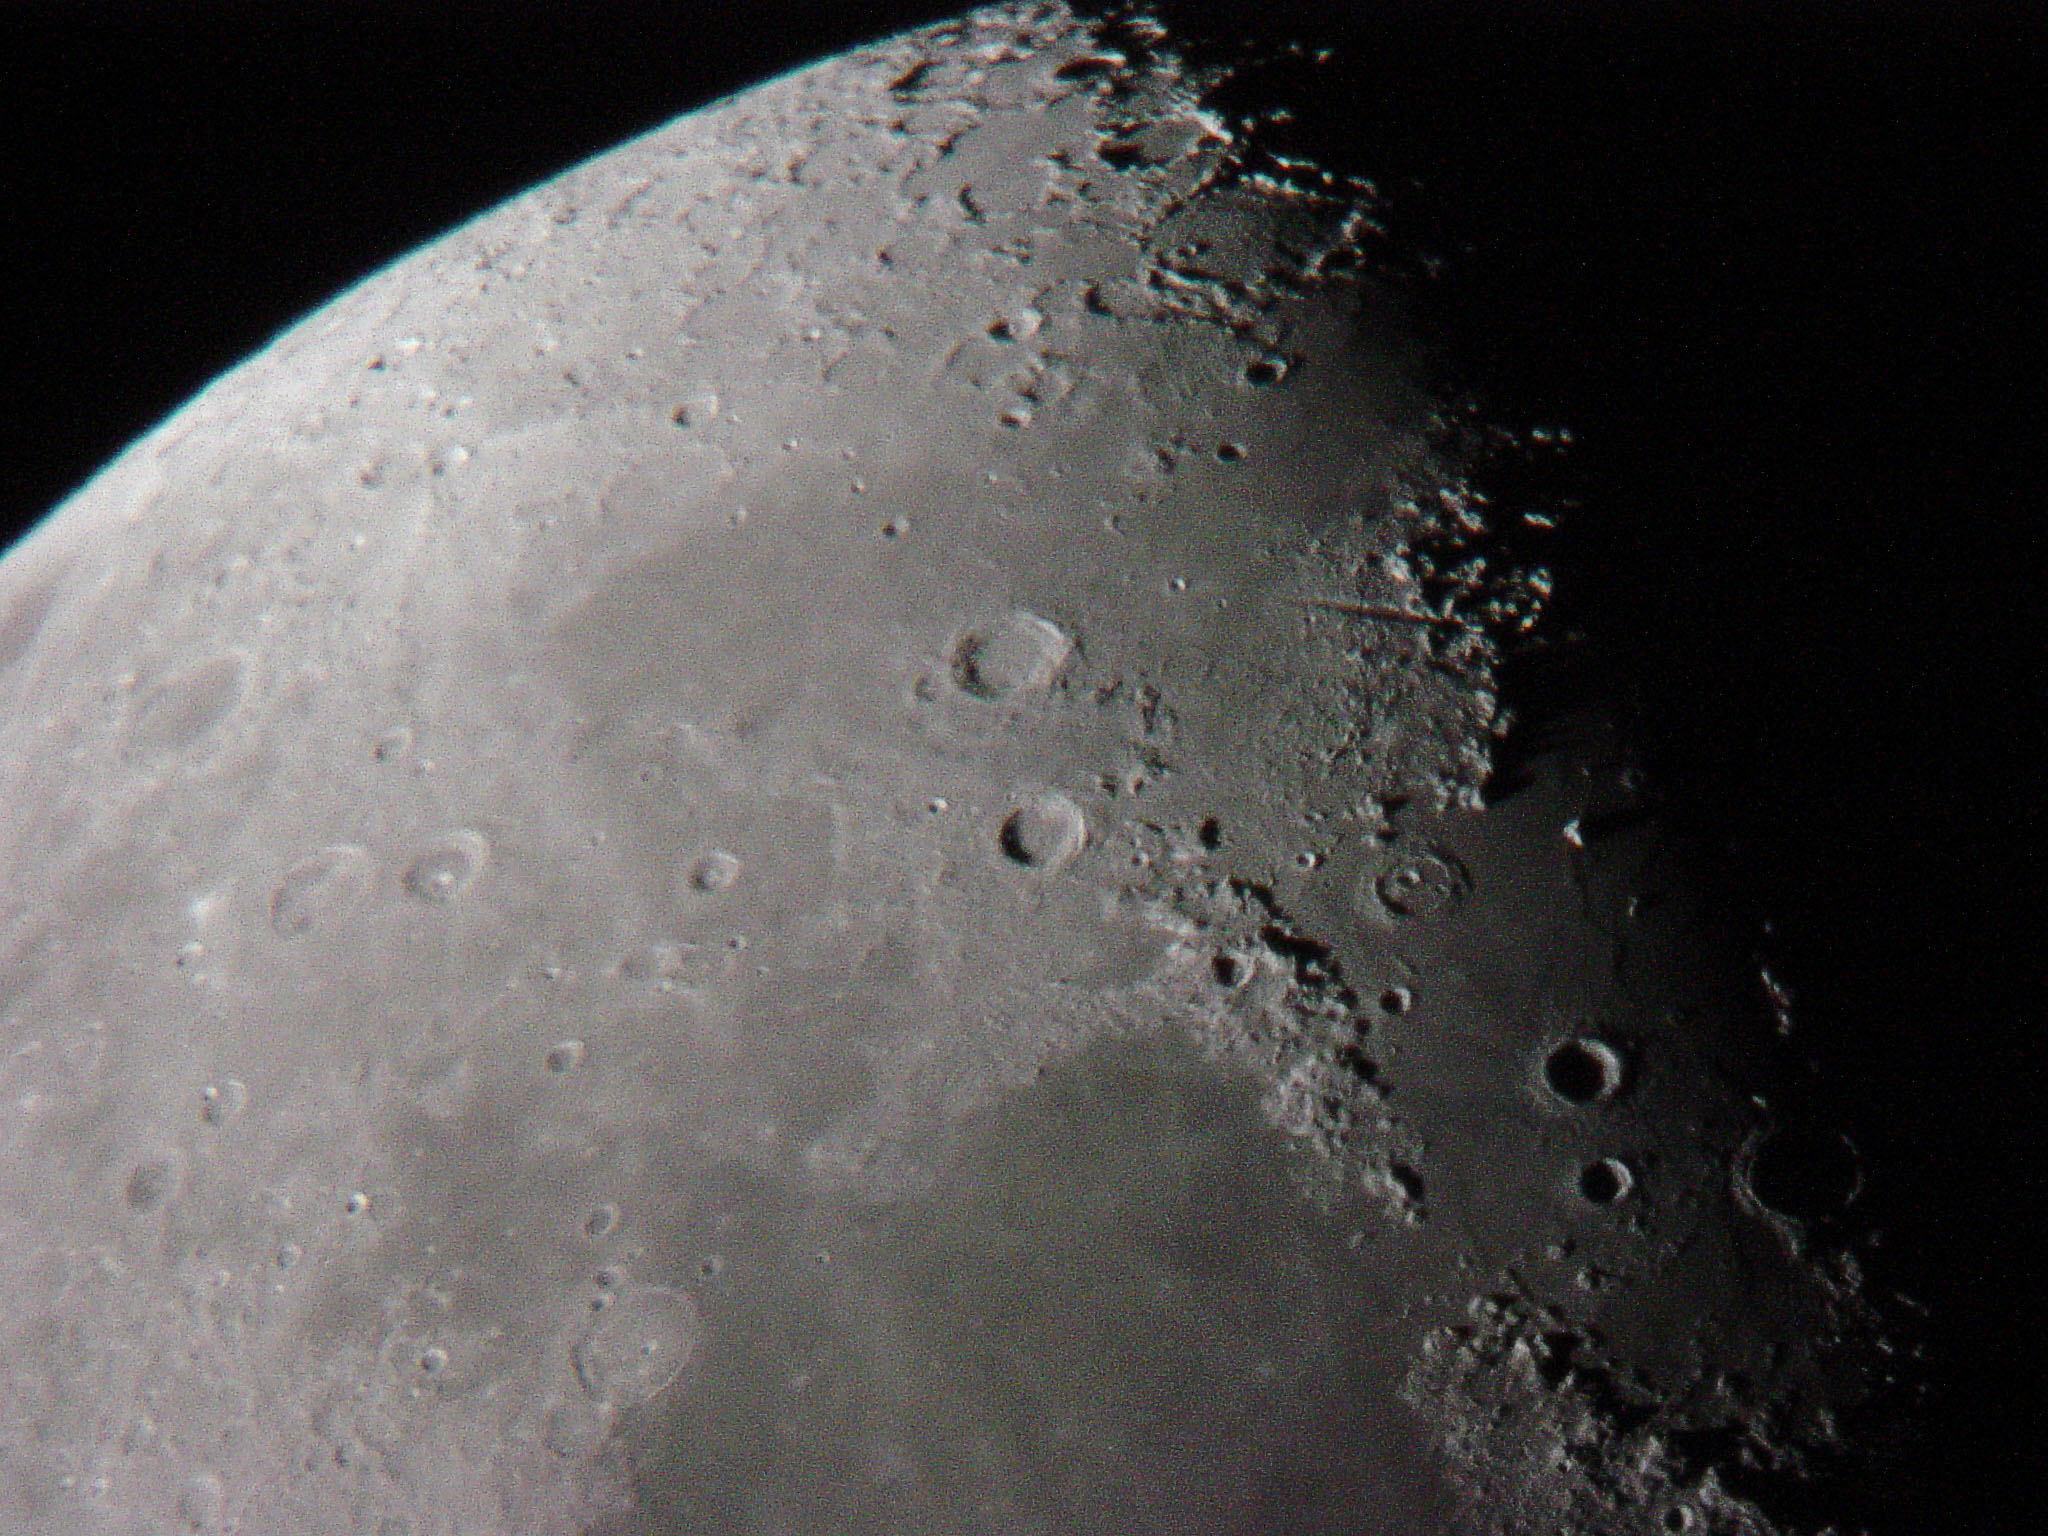crater: (1698, 1063, 1887, 1294), (506, 1270, 748, 1447), (934, 768, 1142, 918), (106, 636, 273, 787), (921, 594, 1098, 736), (255, 820, 390, 968), (385, 815, 519, 945), (1530, 1131, 1672, 1238), (1516, 1021, 1642, 1139), (100, 1133, 218, 1254), (658, 820, 780, 931), (173, 1055, 281, 1170), (1347, 839, 1471, 931), (387, 1326, 497, 1426), (1205, 321, 1317, 416), (506, 1013, 610, 1102), (343, 707, 443, 794), (963, 294, 1072, 366), (637, 389, 748, 453)
